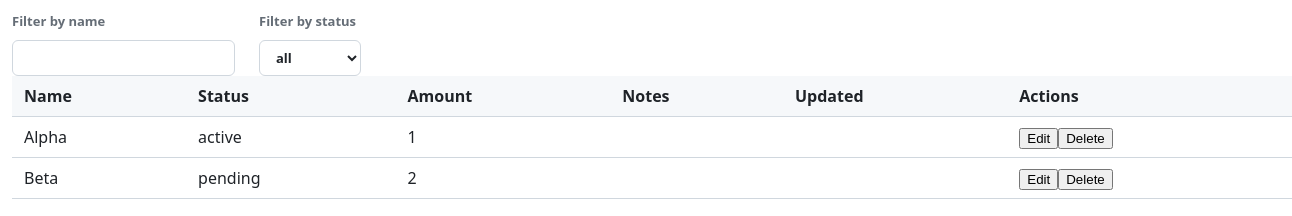
Test: RecordTable › owns which row is editing: clicking Edit puts only that row into edit mode
Note: Edit the first row.
What coordinates should you click on to do the following:
click the button "Edit" in the row of "Alpha"
I would click on:
 (1039, 138)
Its box is [1019,128,1058,148].
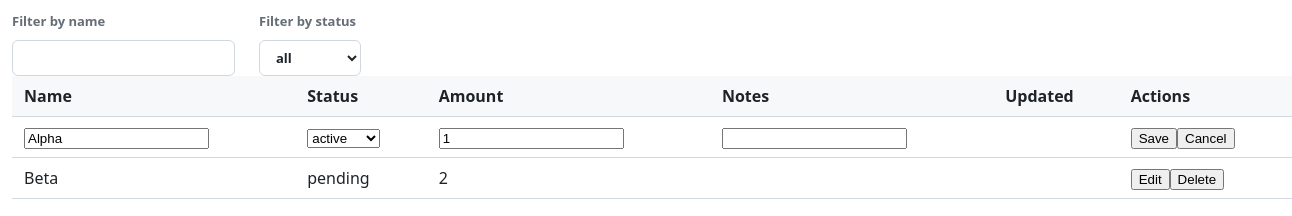
Expected: the text "Beta" is shown, [12,157,295,198]
Expected: the field named "Name" holds "Alpha", [24,128,209,148]
